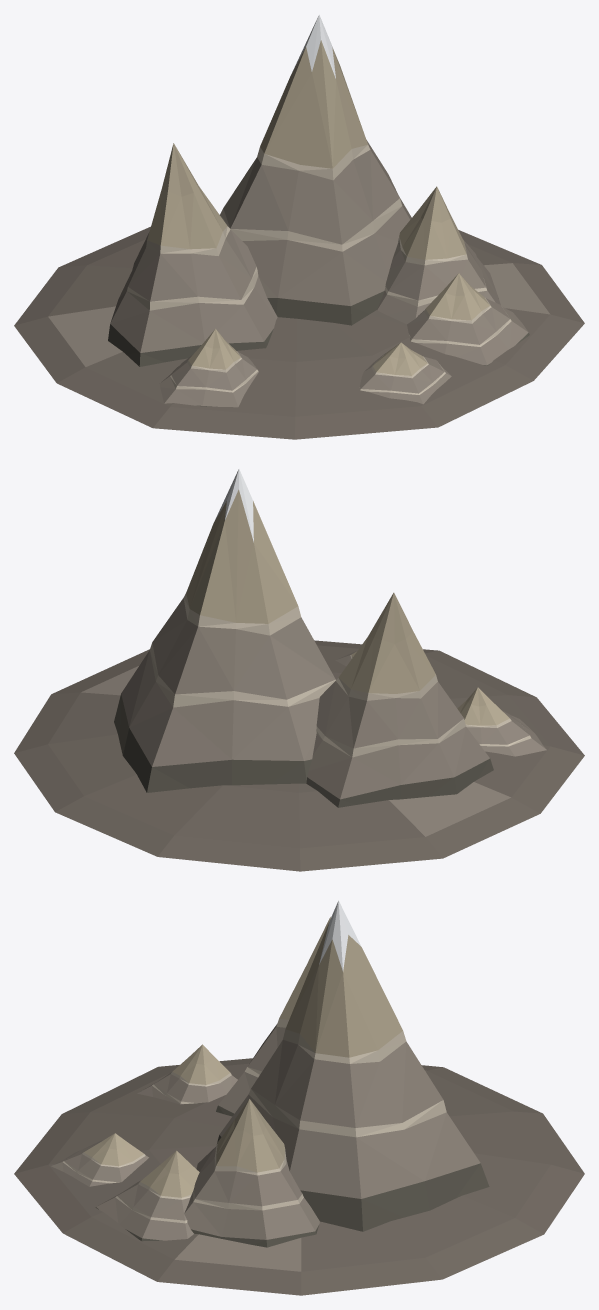
The model's file is mountain_c.glb.
The picture shows the model from 3 angles, top to bottom: view 1: azimuth 30°, elevation 25°; view 2: azimuth 150°, elevation 25°; view 3: azimuth 270°, elevation 25°; orthographic projection. The views are drawn at different scales.
Visible parts, largest first — view 1: mountain_c; view 2: mountain_c; view 3: mountain_c.
Boxes of the visible parts, x1,y1,x2,y2 form: mountain_c: (14,15,584,439); mountain_c: (14,469,584,871); mountain_c: (14,900,584,1295).
Bounding box in the file's own units: 1.77 × 1 × 1.76.
